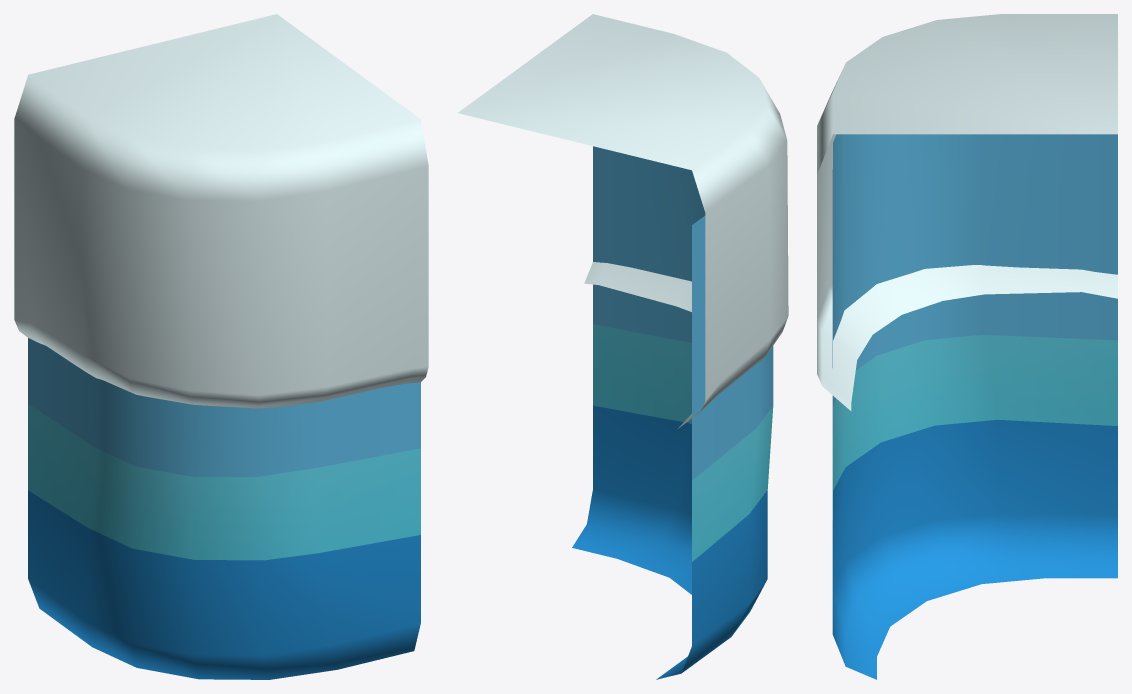
The model's file is ice_wall_001.fbx.
The picture shows the model from 3 angles, left to right: view 1: azimuth 30°, elevation 25°; view 2: azimuth 150°, elevation 25°; view 3: azimuth 270°, elevation 25°; orthographic projection. The views are drawn at different scales.
Parts seen in each view (by area): view 1: ice_wall_001; view 2: ice_wall_001; view 3: ice_wall_001.
Boxes of the visible parts, x1,y1,x2,y2 form: ice_wall_001: [14, 14, 428, 679]; ice_wall_001: [458, 14, 788, 679]; ice_wall_001: [817, 14, 1117, 679].
Bounding box in the file's own units: 100 × 100 × 200.
